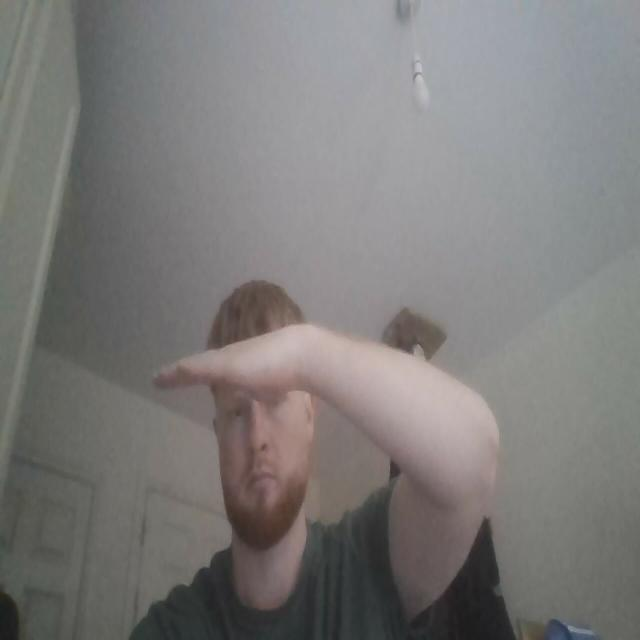papper: (152, 319, 338, 409)
